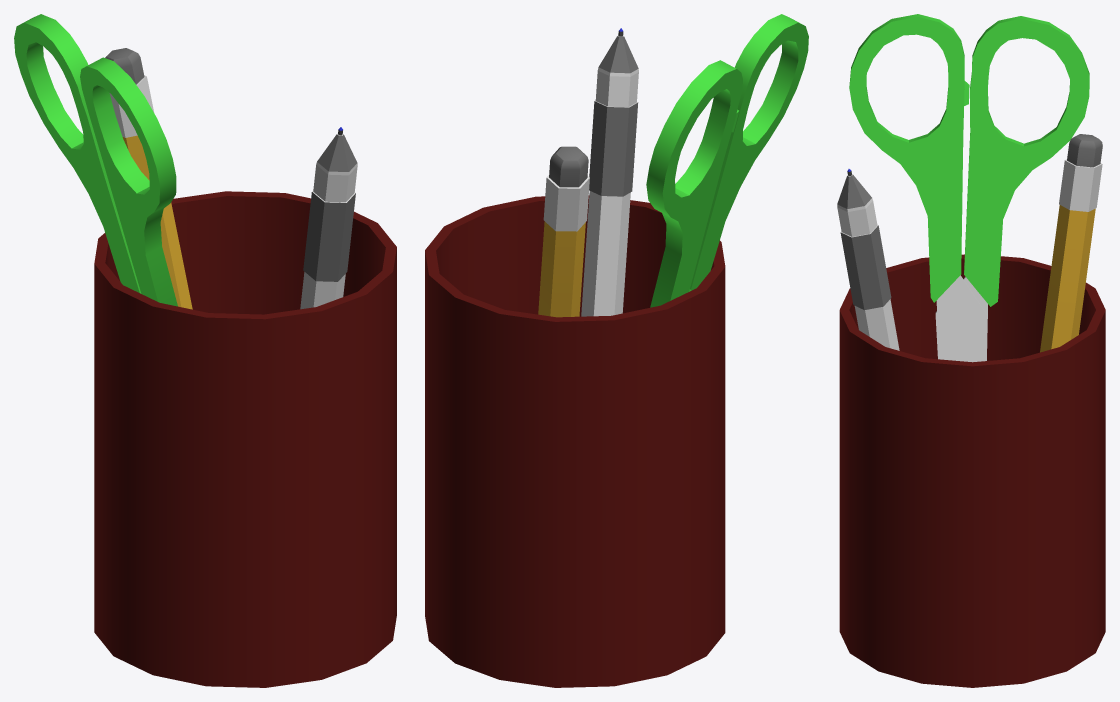
File: Office_Set.fbx
3 renders of one model, left to right at view 1: azimuth 30°, elevation 25°; view 2: azimuth 150°, elevation 25°; view 3: azimuth 270°, elevation 25°, orthographic. The views are drawn at different scales.
Visible parts, largest first — view 1: Desk_Organizer, Scissors, Pen, Pencil; view 2: Desk_Organizer, Scissors, Pen, Pencil; view 3: Desk_Organizer, Scissors, Pencil, Pen.
Part boxes in pixels (box(x1,y1,x2,y2)): Desk_Organizer: box(94, 191, 396, 687); Scissors: box(14, 14, 177, 306); Pen: box(300, 127, 357, 309); Pencil: box(105, 48, 192, 309); Desk_Organizer: box(425, 195, 725, 687); Scissors: box(646, 14, 808, 307); Pen: box(581, 28, 638, 316); Pencil: box(538, 146, 589, 317); Desk_Organizer: box(839, 254, 1105, 687); Scissors: box(849, 14, 1089, 362); Pencil: box(1040, 134, 1102, 352); Pen: box(837, 169, 899, 350).
Size of the model in its own units: 177 by 339 by 151.
